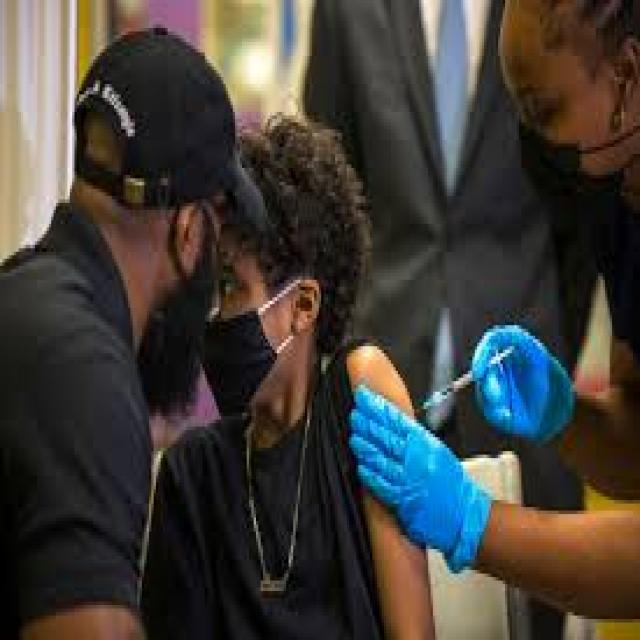cap: (70, 24, 268, 420)
head: (195, 109, 368, 424), (493, 0, 639, 213)
